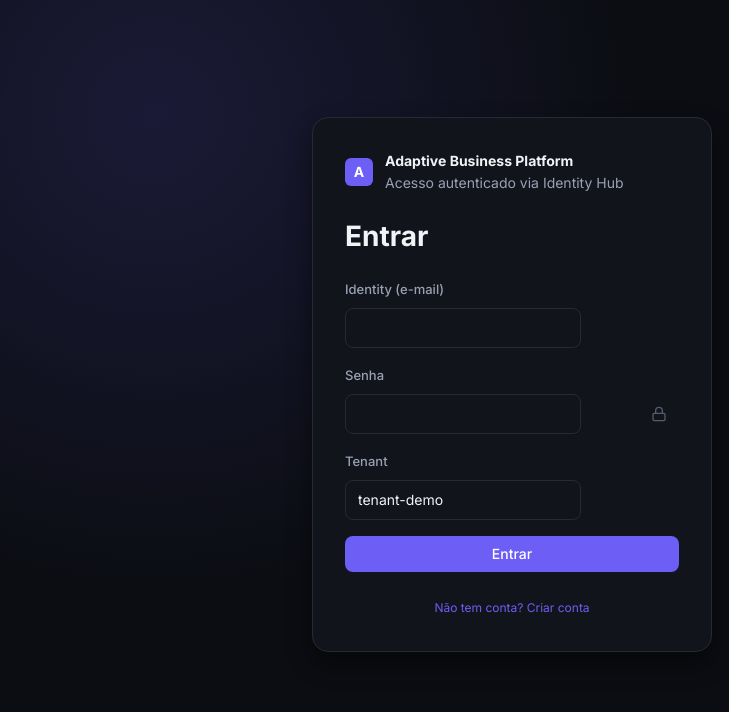
LoginPage › exibe uma mensagem de erro segura quando o login falha (401), nunca a mensagem técnica original
Type "ana@example.com" into the field labelled "Identity (e-mail)". click: (463, 328)
box: x1=345 y1=308 x2=581 y2=348
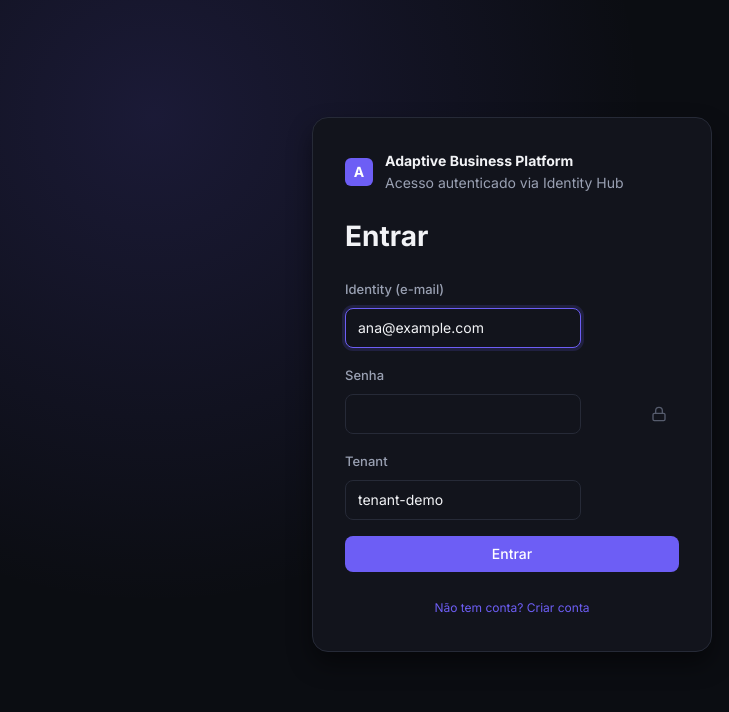
Type "senha-errada-123" into the password field labelled "Senha". click: (463, 414)
box: x1=345 y1=394 x2=581 y2=434
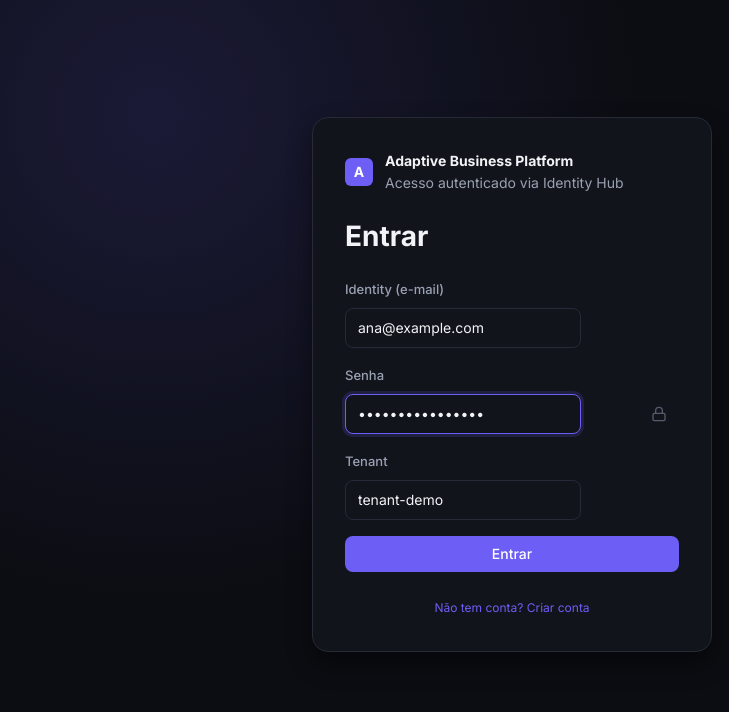
Click the button "Entrar". click: (512, 554)
box: x1=345 y1=536 x2=679 y2=572
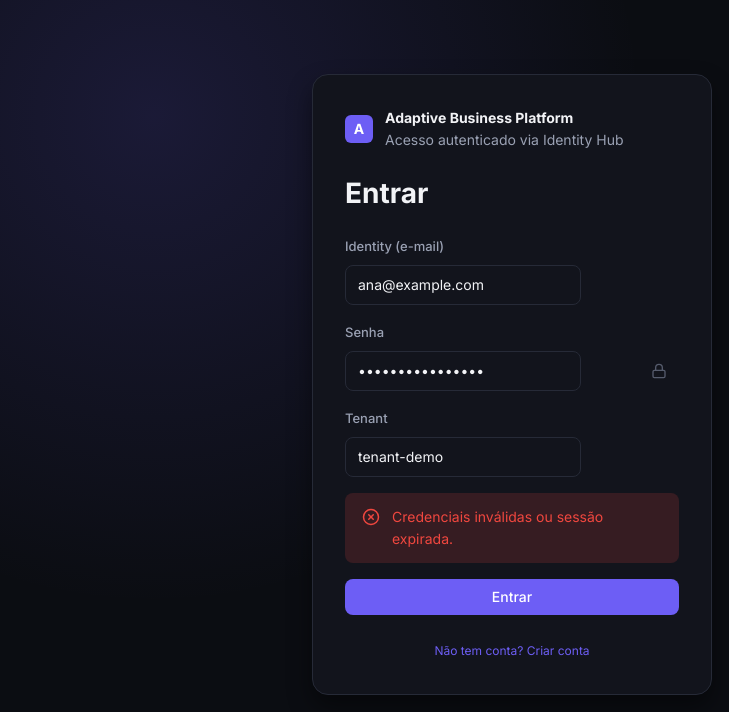
Expected: the message reads "Credenciais inválidas ou sessão expirada.", x1=392 y1=508 x2=603 y2=546
